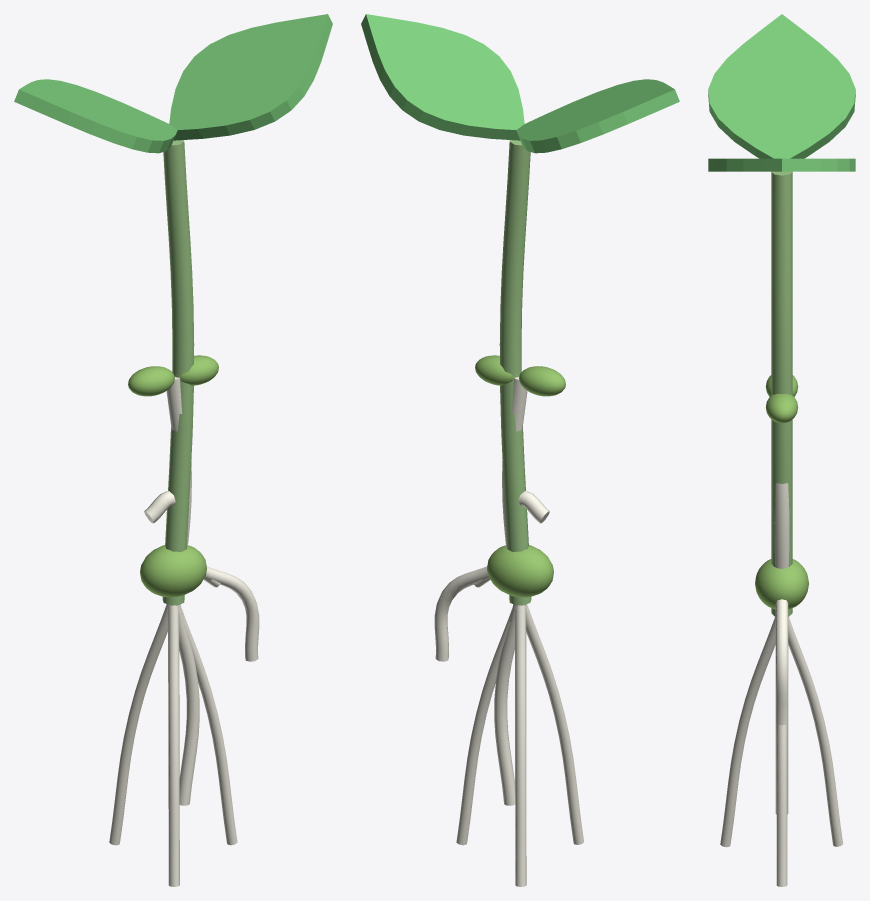
Rendered from sprout_stages.glb.
3 views of the same model, side by side, from view 1: azimuth 30°, elevation 25°; view 2: azimuth 150°, elevation 25°; view 3: azimuth 270°, elevation 25° (orthographic). The views are drawn at different scales.
Visible parts, largest first — view 1: s4_leaf0, s4_stem, s4_leaf1, s4_root2, s1_seed, s4_root1, s3_root, s4_root0, s2_root, s3_cot0, s3_cot1, s3_stem; view 2: s4_leaf0, s4_stem, s4_leaf1, s4_root1, s1_seed, s4_root2, s3_root, s4_root0, s2_root, s3_cot0, s3_cot1, s3_stem; view 3: s4_leaf1, s4_stem, s4_root2, s4_root1, s4_leaf0, s1_seed, s4_root0, s2_root, s3_stem, s3_cot1, s3_root.
Boxes of the visible parts, bbox=[...] form: s4_leaf0: bbox=[169, 14, 332, 140]; s4_stem: bbox=[162, 140, 194, 605]; s4_leaf1: bbox=[14, 79, 177, 153]; s4_root2: bbox=[168, 605, 179, 886]; s1_seed: bbox=[140, 545, 206, 597]; s4_root1: bbox=[109, 604, 168, 845]; s3_root: bbox=[168, 604, 199, 805]; s4_root0: bbox=[182, 609, 237, 845]; s2_root: bbox=[204, 566, 259, 661]; s3_cot0: bbox=[128, 366, 174, 396]; s3_cot1: bbox=[172, 355, 218, 385]; s3_stem: bbox=[166, 377, 191, 548]; s4_leaf0: bbox=[361, 14, 524, 140]; s4_stem: bbox=[499, 140, 531, 605]; s4_leaf1: bbox=[516, 79, 679, 153]; s4_root1: bbox=[515, 605, 526, 886]; s1_seed: bbox=[487, 545, 553, 597]; s4_root2: bbox=[525, 604, 583, 844]; s3_root: bbox=[494, 604, 525, 805]; s4_root0: bbox=[456, 609, 511, 845]; s2_root: bbox=[434, 566, 489, 661]; s3_cot0: bbox=[519, 366, 565, 396]; s3_cot1: bbox=[475, 355, 521, 385]; s3_stem: bbox=[502, 377, 527, 548]; s4_leaf1: bbox=[708, 14, 855, 158]; s4_stem: bbox=[771, 171, 792, 616]; s4_root2: bbox=[720, 616, 775, 847]; s4_root1: bbox=[788, 617, 842, 846]; s4_leaf0: bbox=[708, 158, 855, 171]; s1_seed: bbox=[755, 559, 808, 609]; s4_root0: bbox=[776, 724, 787, 886]; s2_root: bbox=[775, 599, 788, 725]; s3_stem: bbox=[774, 483, 789, 568]; s3_cot1: bbox=[765, 394, 798, 423]; s3_root: bbox=[775, 723, 788, 814].
Size of the model in its own units: 0.0326 by 0.0788 by 0.0136.
